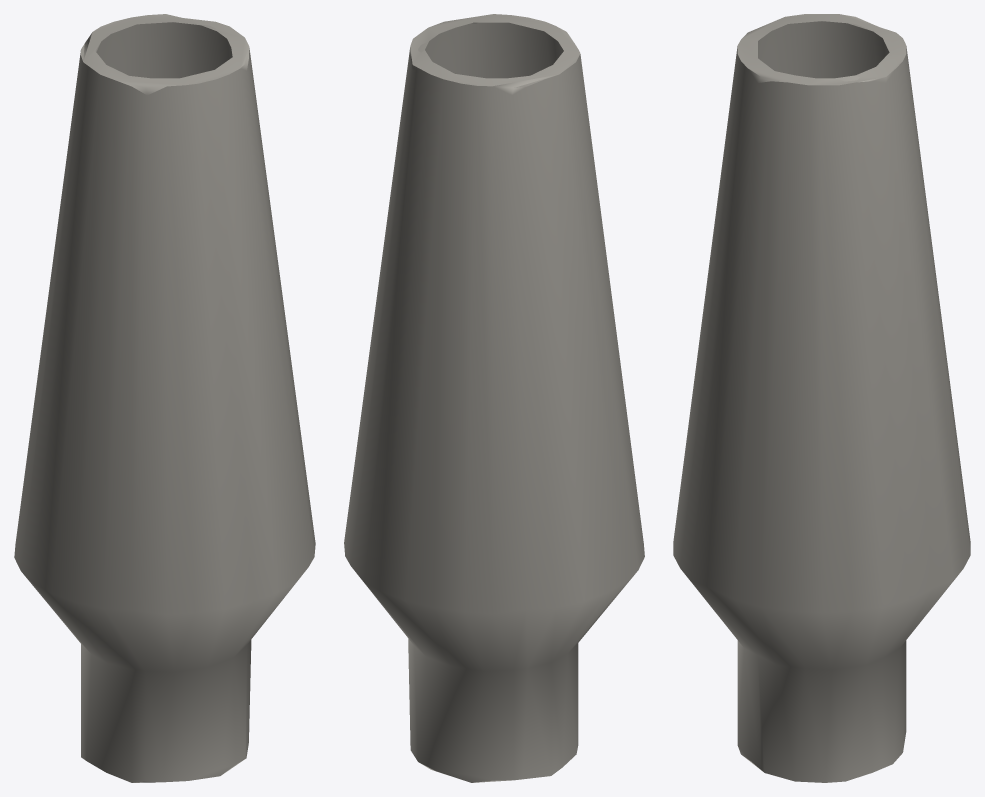
Rendered from Vase0003.obj.
3 renders of one model, left to right at view 1: azimuth 30°, elevation 25°; view 2: azimuth 150°, elevation 25°; view 3: azimuth 270°, elevation 25°, orthographic.
Bounding box in the file's own units: 0.09 × 0.228 × 0.088.
1 material, 1 textured.
